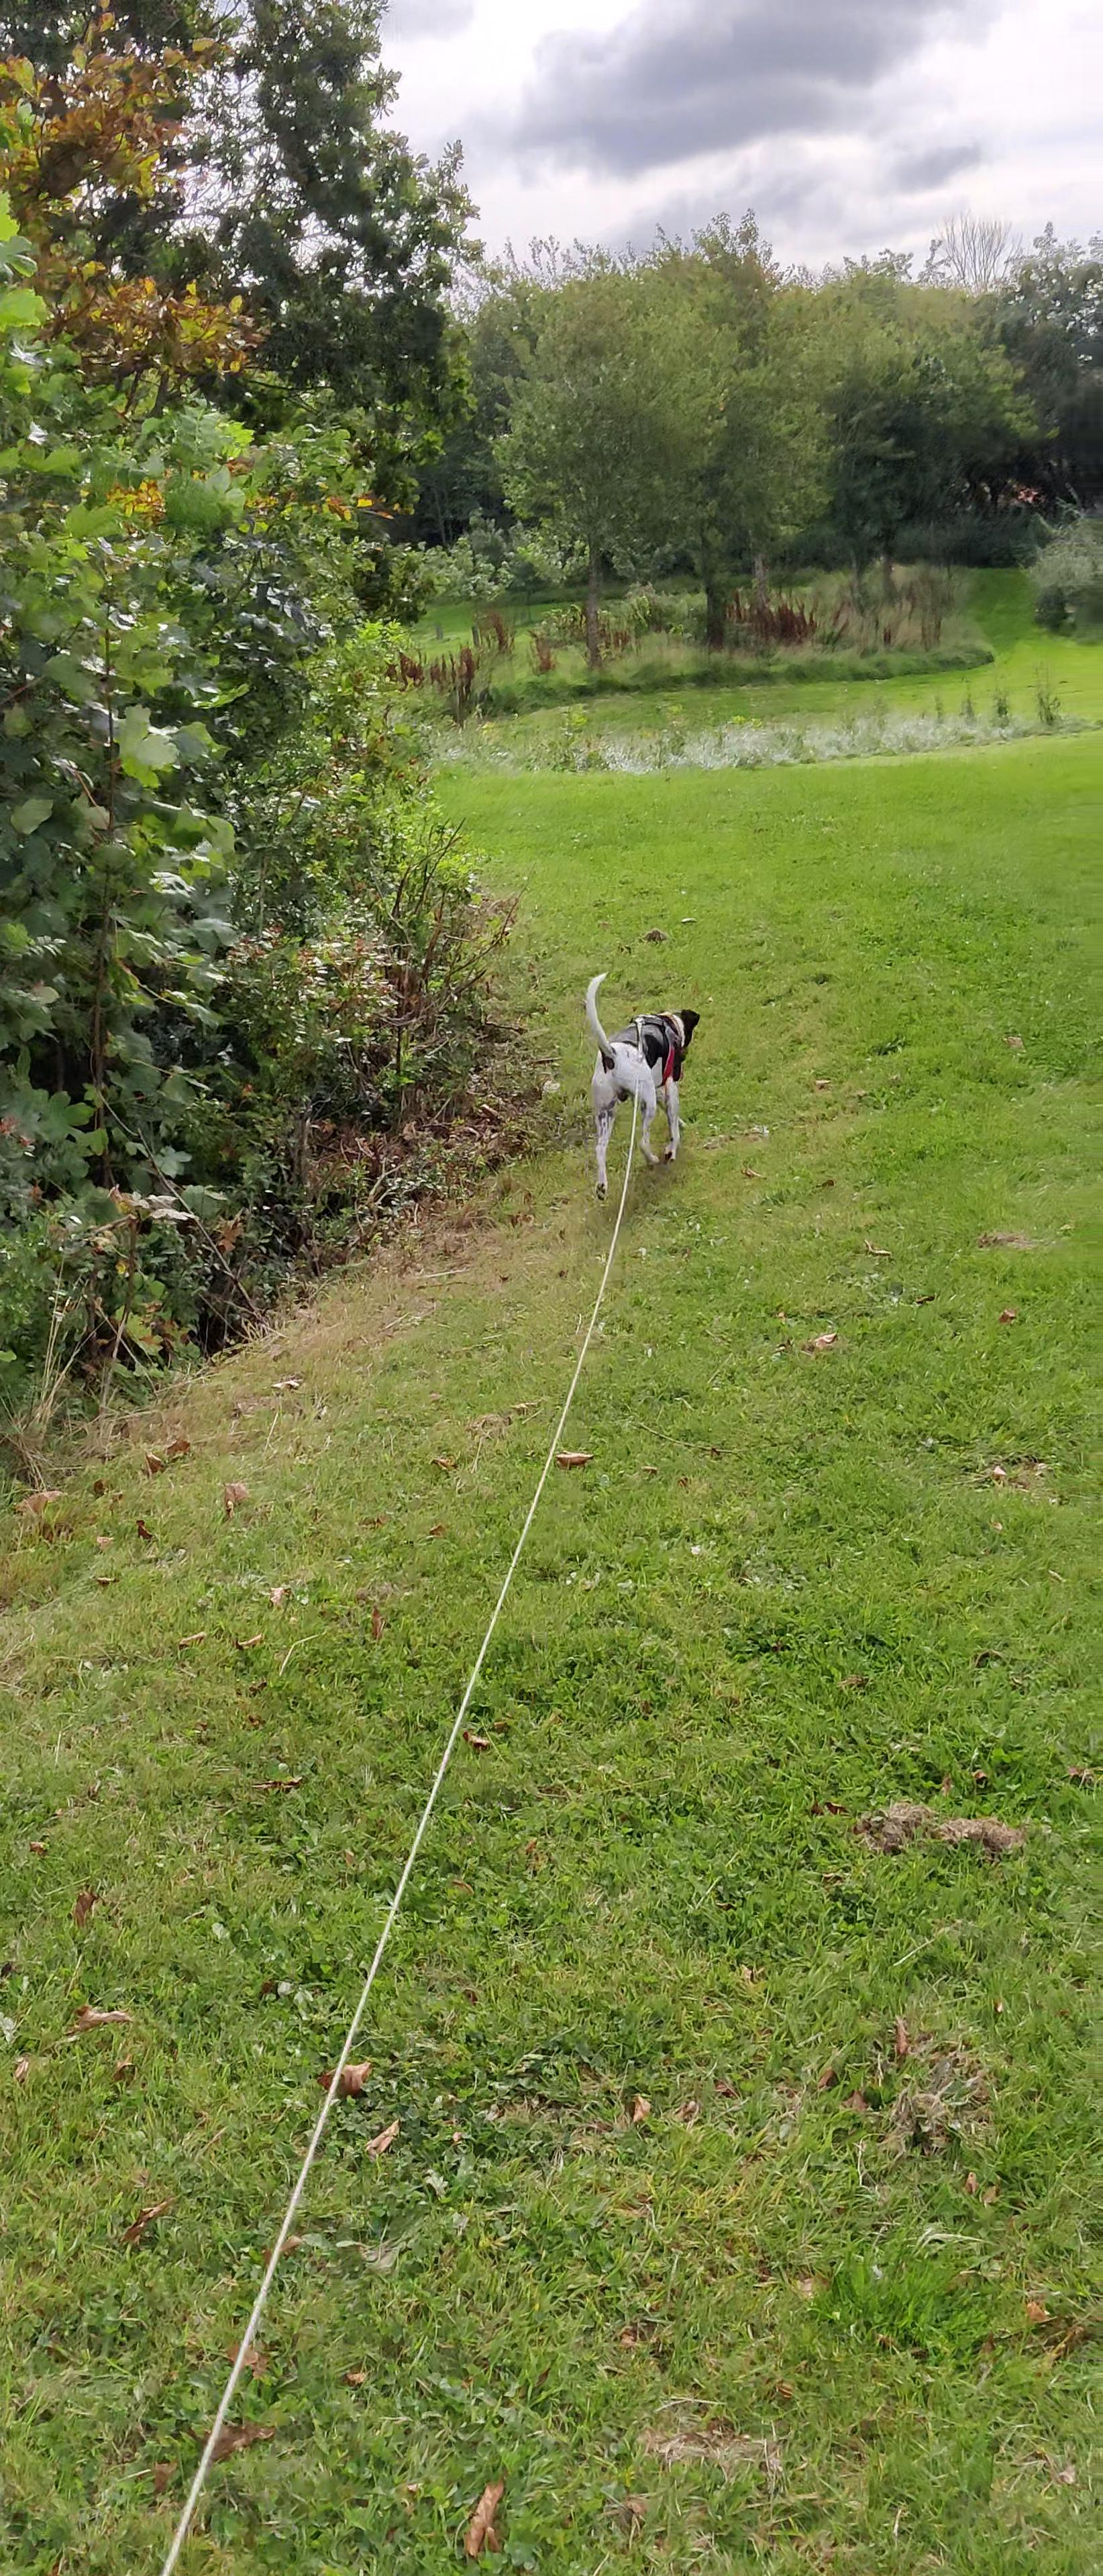Dog: (569, 959, 710, 1201)
